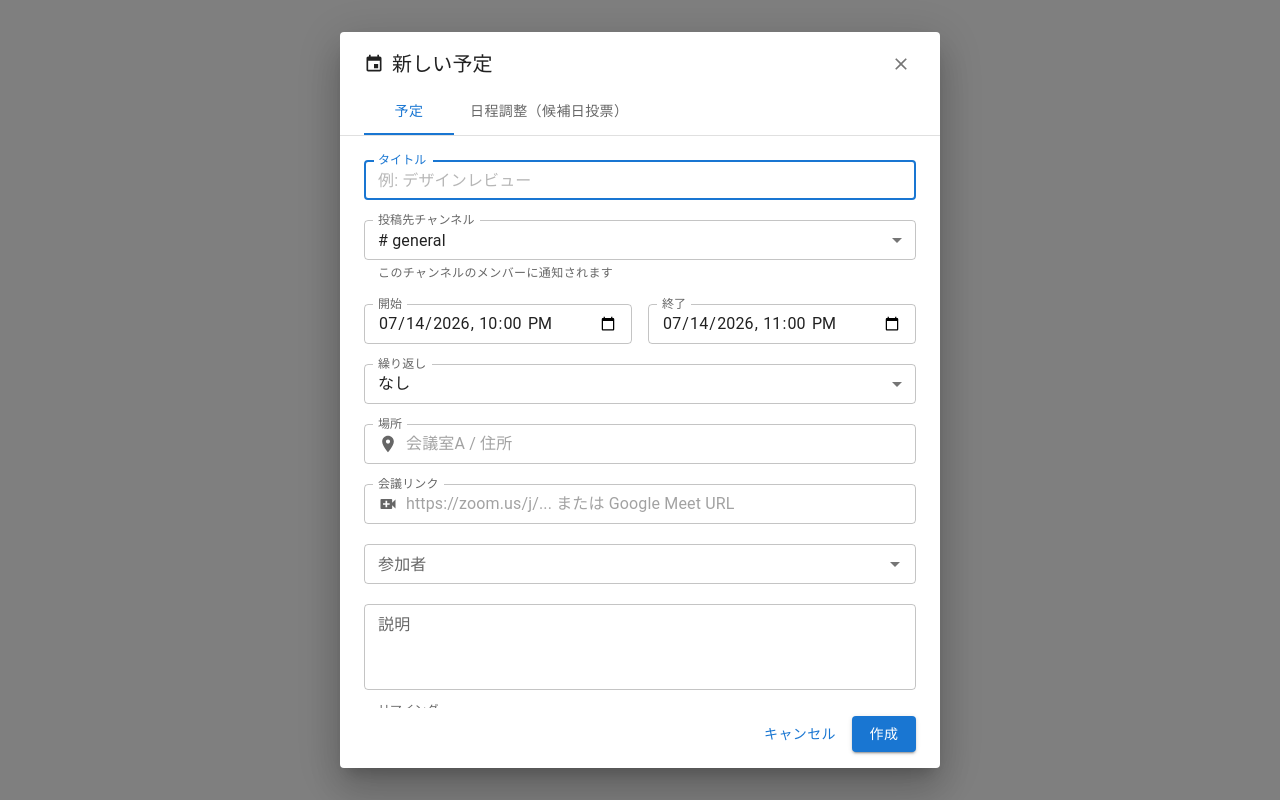
Test: EventDialog › 予定モードのバリデーション › startsAt >= endsAt で送信するとエラーが出る
Step 1. Type "Test" into the field named "event-title" → (640, 180), box [364,160,916,200]
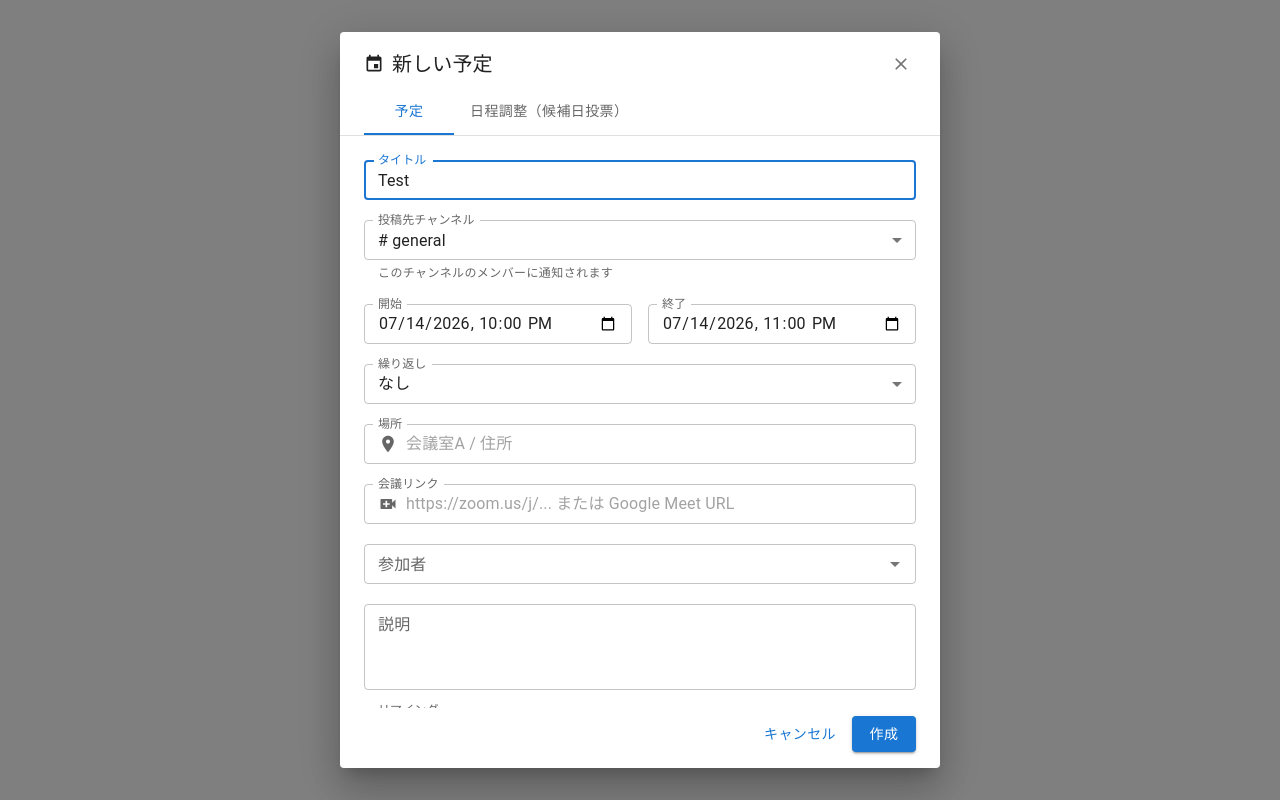
Step 2. Replace the text in the field named "event-starts-at" with "2030-01-01T11:00" → (498, 324), box [364,304,632,344]
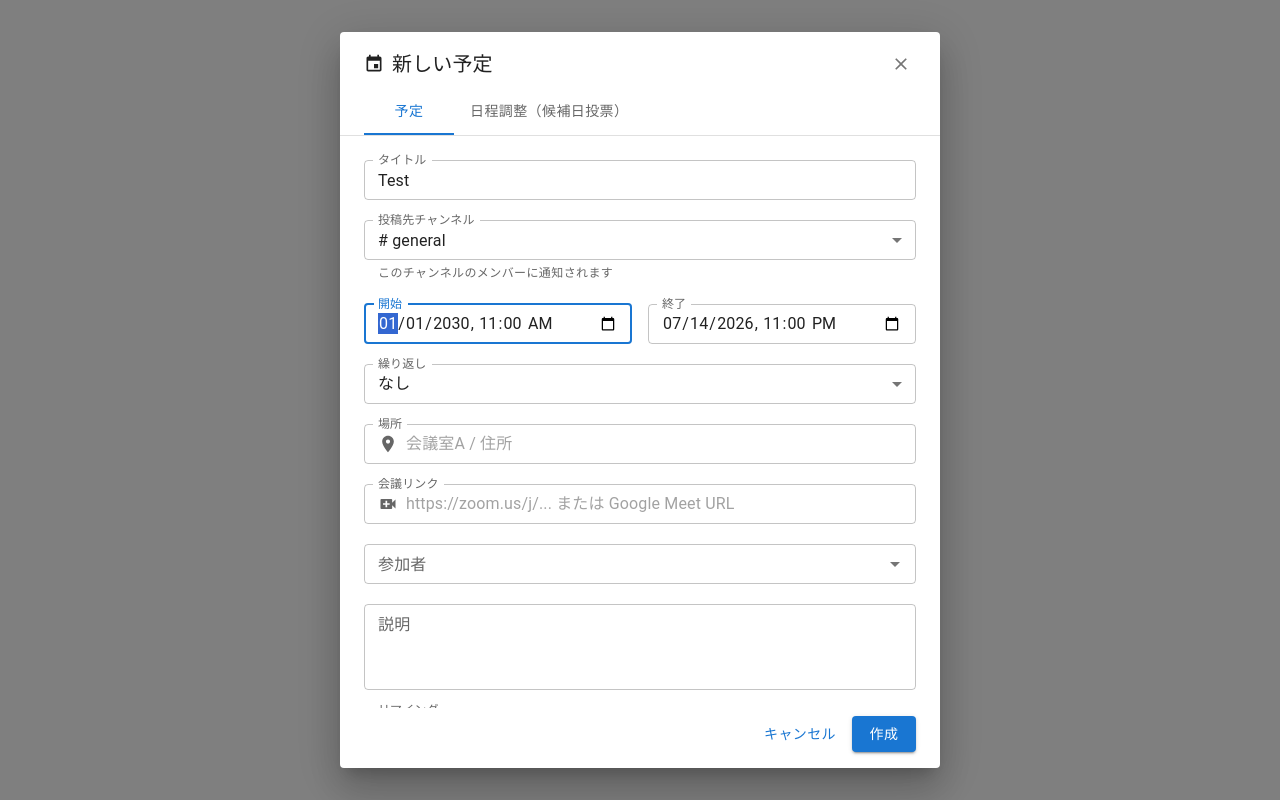
Step 3. Replace the text in the field named "event-ends-at" with "2030-01-01T10:00" → (782, 324), box [648,304,916,344]
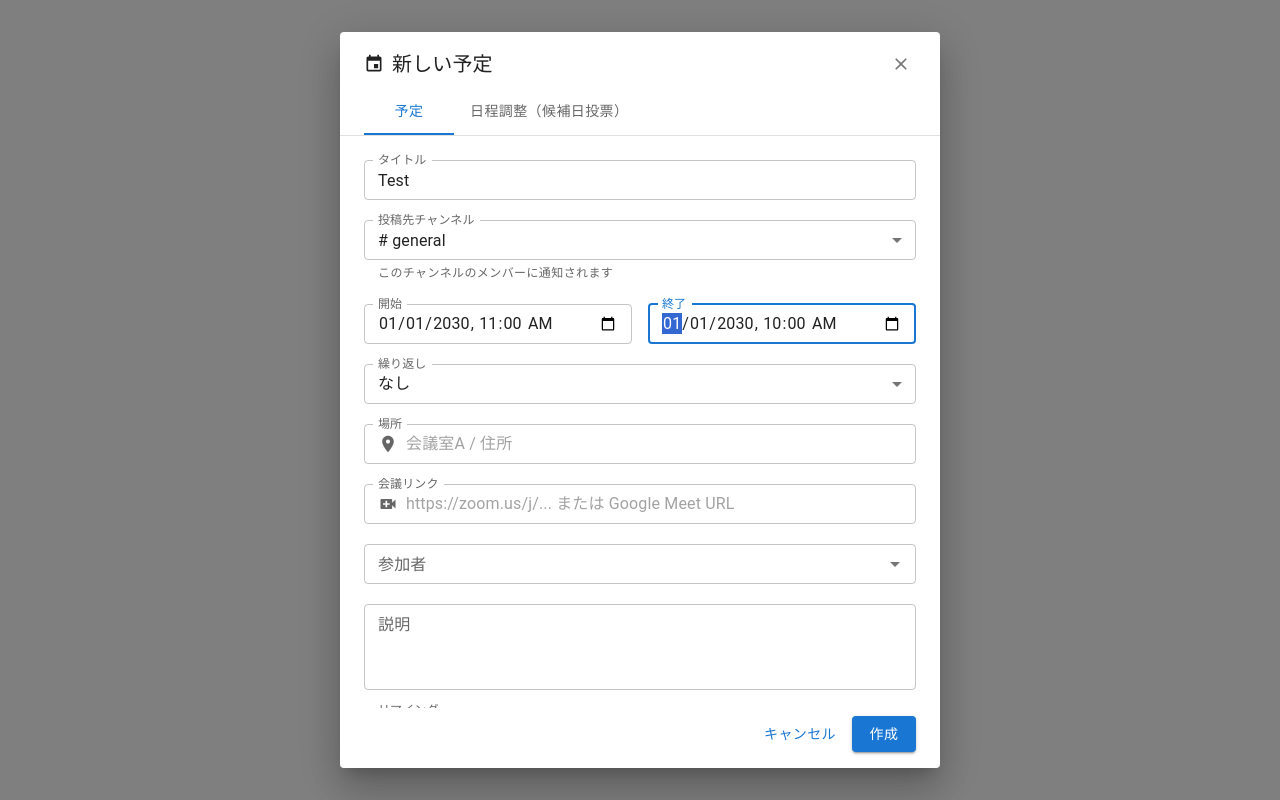
Step 4. Click the button with aria-label "event-dialog-submit" → (884, 734), box [852,716,916,752]
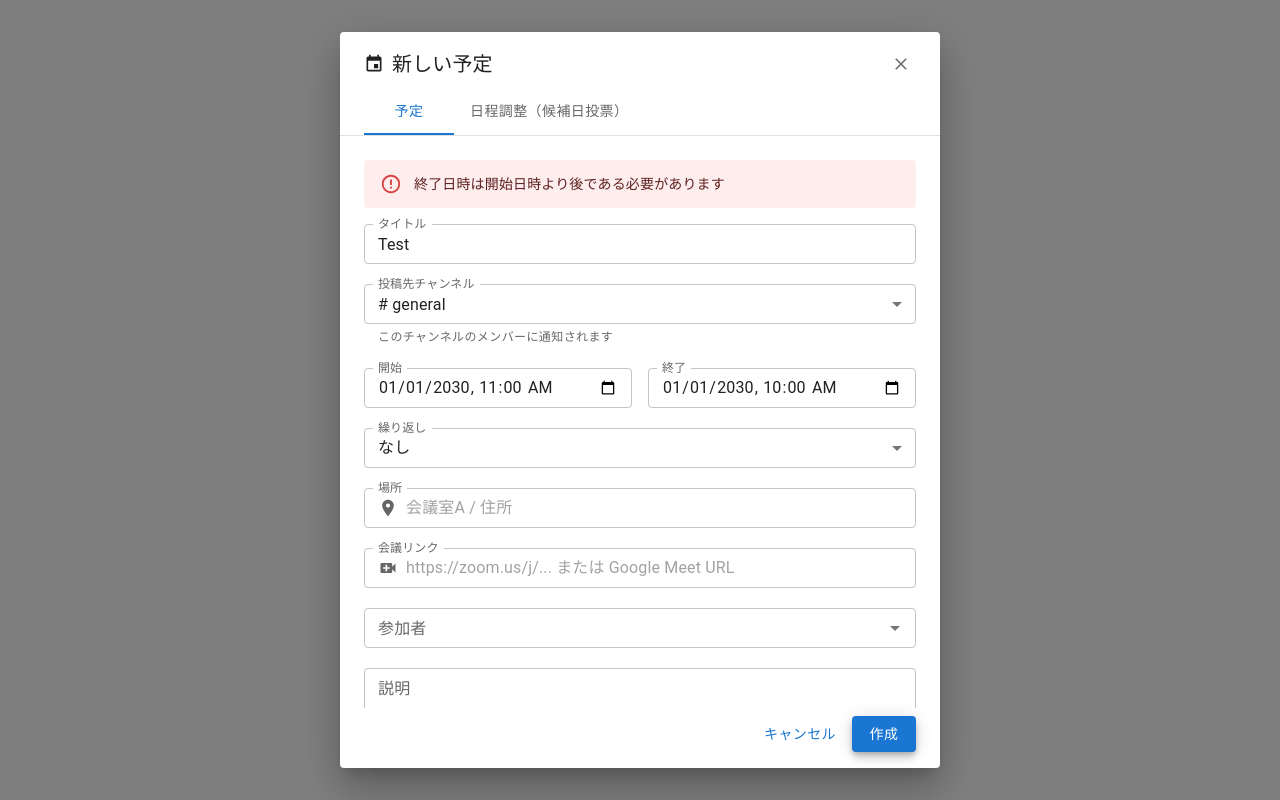
Now the message with test id "event-dialog-error" shows "終了日時", box [414,176,725,192]
